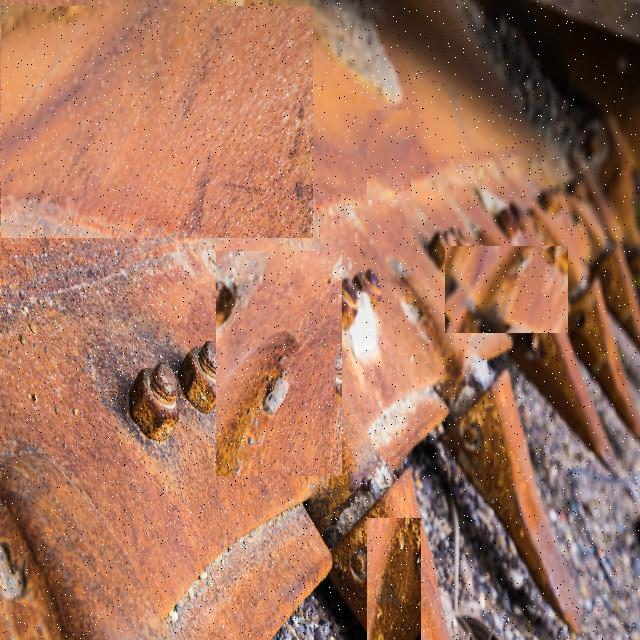Corrosion: (0, 0, 639, 639), (0, 0, 315, 238)
